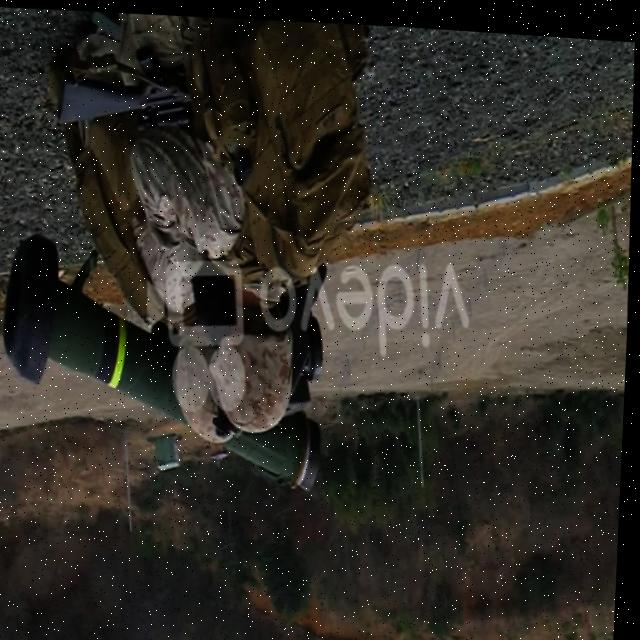rocket: (0, 209, 329, 515)
